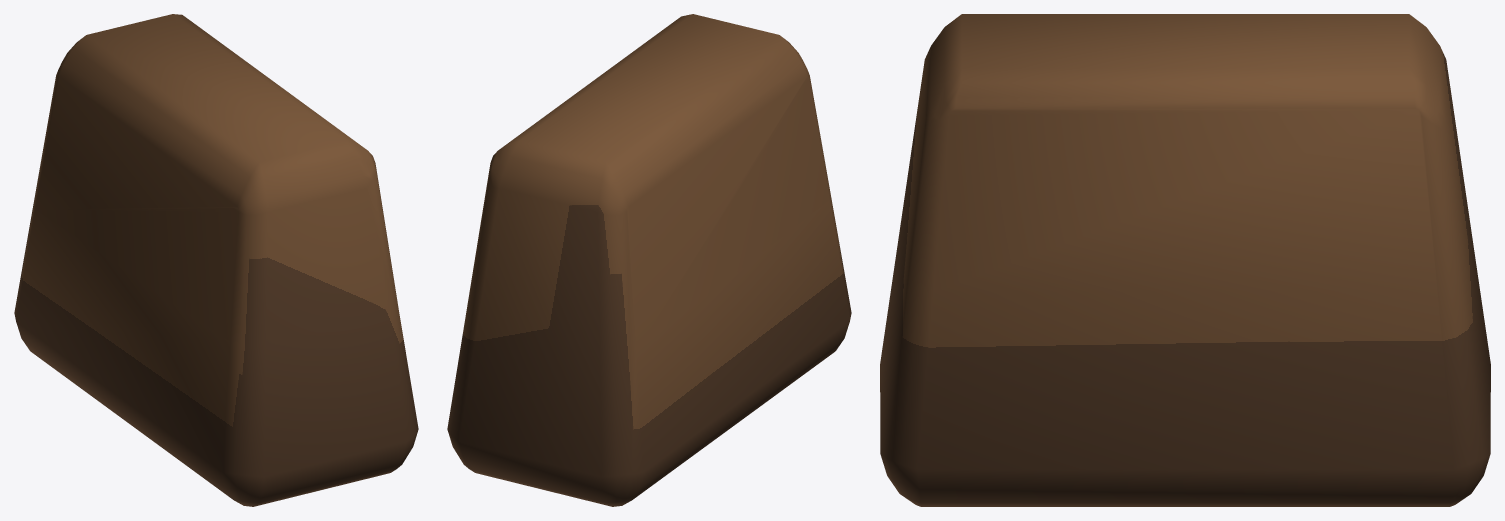
Rendered from medium_Dirt.fbx.
The picture shows the model from 3 angles, left to right: view 1: azimuth 30°, elevation 25°; view 2: azimuth 150°, elevation 25°; view 3: azimuth 270°, elevation 25°; orthographic projection. The views are drawn at different scales.
Visible parts, largest first — view 1: Cube.030; view 2: Cube.030; view 3: Cube.030.
Part boxes in pixels (bbox=[...]): Cube.030: bbox=[14, 14, 418, 506]; Cube.030: bbox=[447, 14, 851, 506]; Cube.030: bbox=[880, 14, 1490, 506].
Bounding box in the file's own units: 94.22 × 151 × 199.
